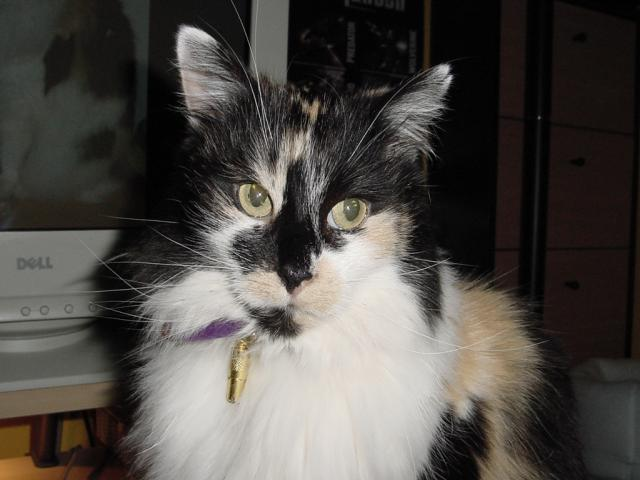Cat: (64, 0, 584, 480)
